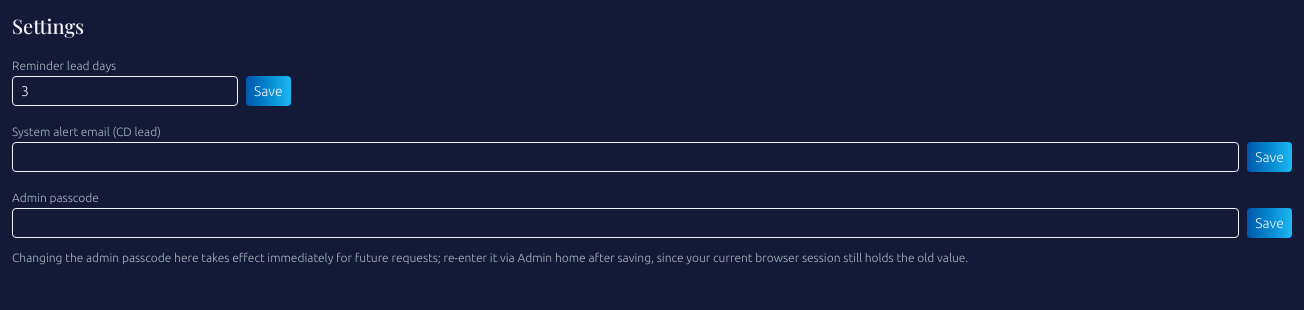
Test: SettingsPage › shows an error message on a wrong-passcode response
The width and height of the screenshot is (1304, 310).
Click the 1st button "Save": (268, 91) [246, 76, 291, 106]
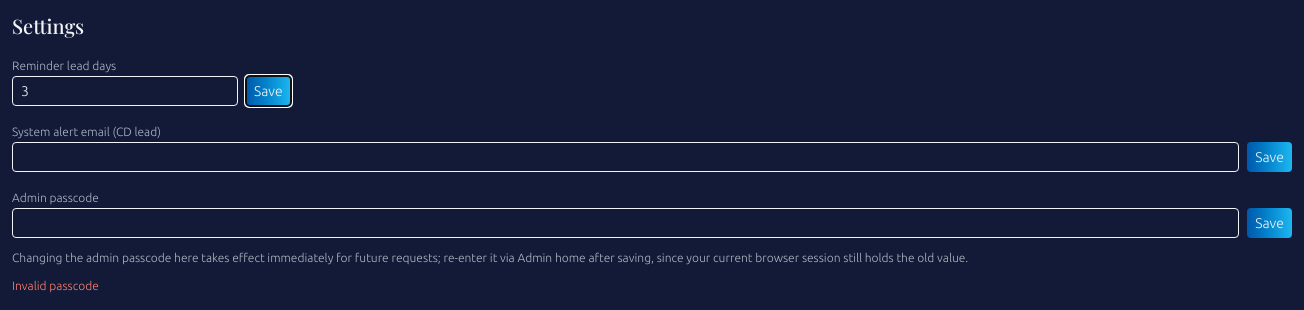
Check: the text "Invalid passcode" is shown, box [12, 279, 99, 292]
